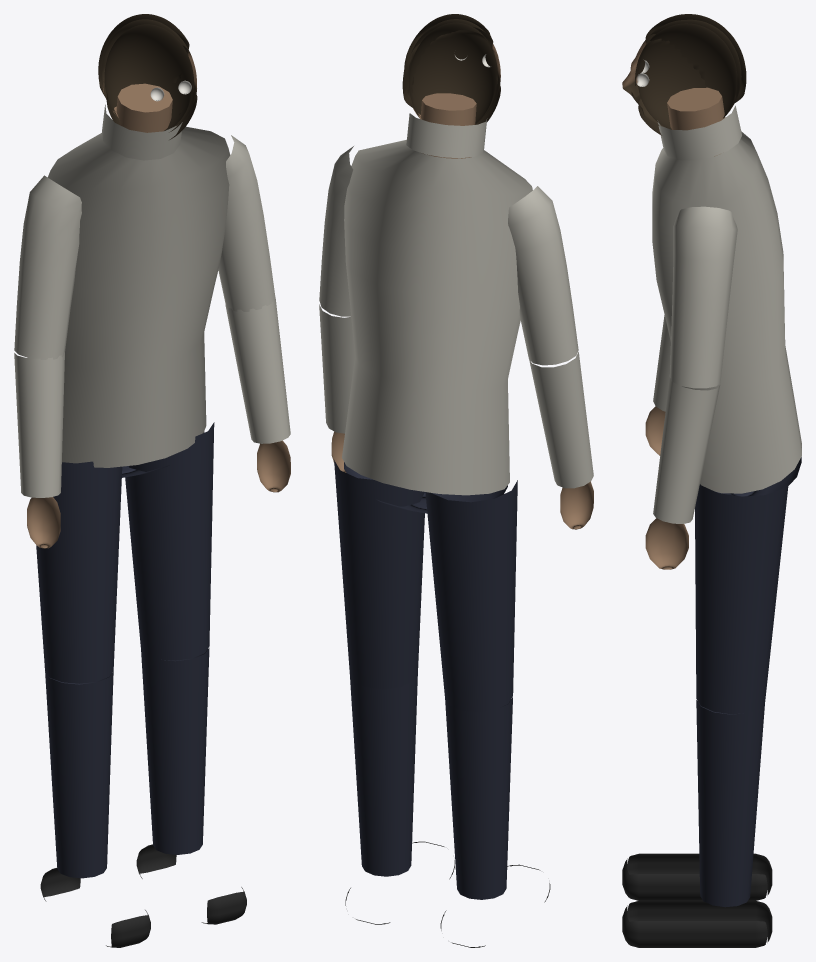
Rendered from damage_control_standing.glb.
The picture shows the model from 3 angles, left to right: view 1: azimuth 30°, elevation 25°; view 2: azimuth 150°, elevation 25°; view 3: azimuth 270°, elevation 25°; orthographic projection.
Visible parts, largest first — view 1: body, head; view 2: body, head; view 3: body, head.
Boxes of the visible parts, box(x1,y1,x2,y2) form: body: box(14, 83, 290, 947); head: box(98, 14, 197, 139); body: box(319, 93, 593, 947); head: box(402, 14, 500, 124); body: box(622, 87, 801, 947); head: box(622, 14, 746, 135).
Size of the model in its own units: 0.5518 by 1.79 by 0.3231.
